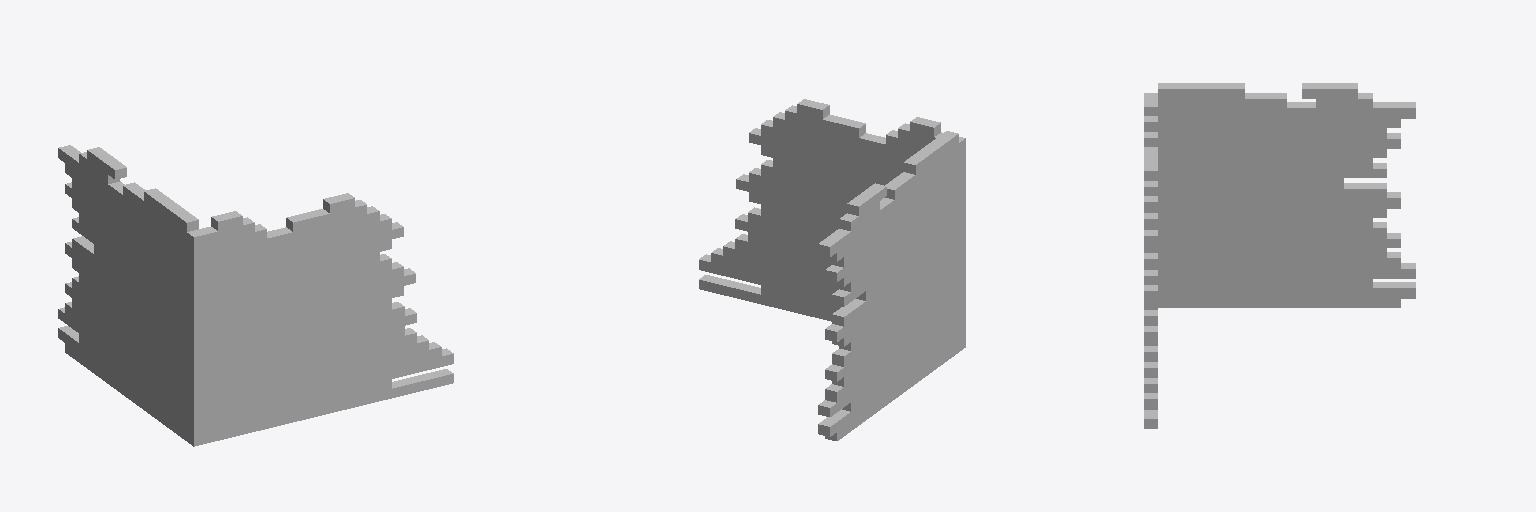
File: sciany.obj
3 views of the same model, side by side, from view 1: azimuth 30°, elevation 25°; view 2: azimuth 150°, elevation 25°; view 3: azimuth 270°, elevation 25° (orthographic).
Visible parts, largest first — view 1: lowpoly_sciana; view 2: lowpoly_sciana; view 3: lowpoly_sciana.
Part boxes in pixels (left/top/right/bottom): lowpoly_sciana: left=58, top=145, right=453, bottom=446; lowpoly_sciana: left=699, top=99, right=965, bottom=440; lowpoly_sciana: left=1144, top=83, right=1415, bottom=428.
Bounding box in the file's own units: 10.74 × 8.65 × 9.7.